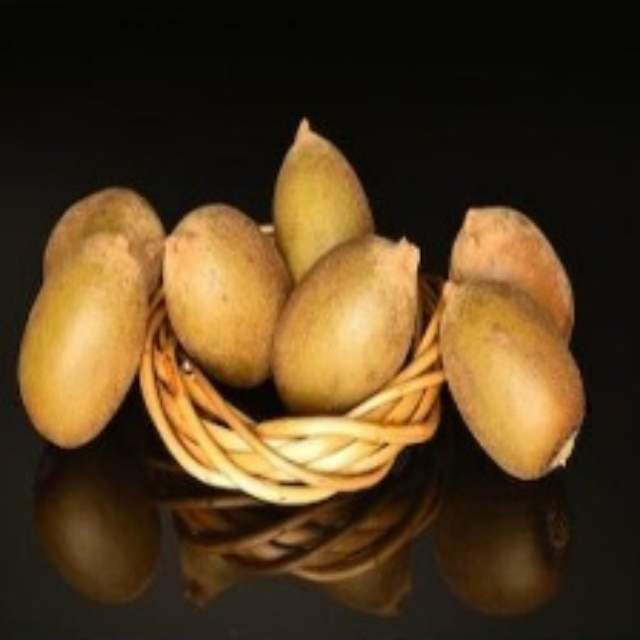kiwi: (441, 207, 593, 482), (22, 184, 164, 445), (279, 248, 415, 399), (171, 215, 288, 376), (271, 112, 382, 280)
